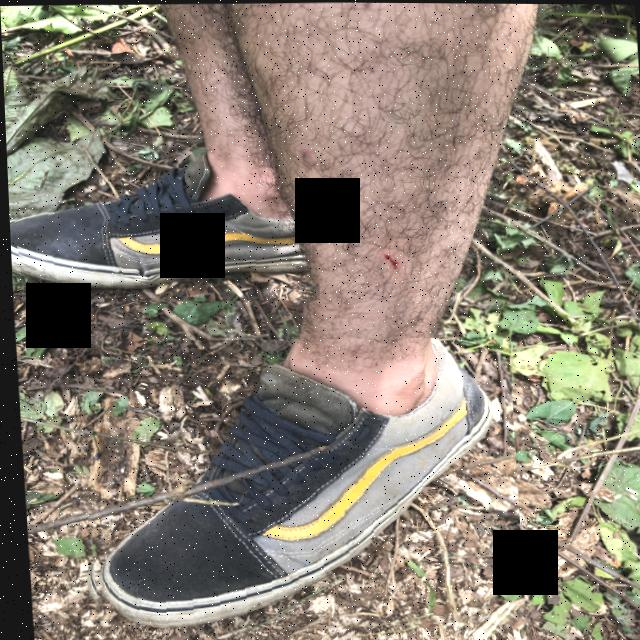shoe: (64, 334, 521, 640), (5, 133, 317, 304)
